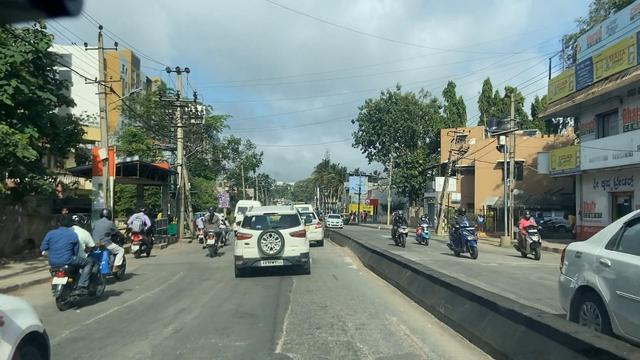LMV: (44, 215, 107, 292), (236, 209, 310, 269), (126, 206, 152, 254), (201, 207, 225, 258)
RoadDamages: (62, 270, 182, 339), (271, 271, 307, 360)
